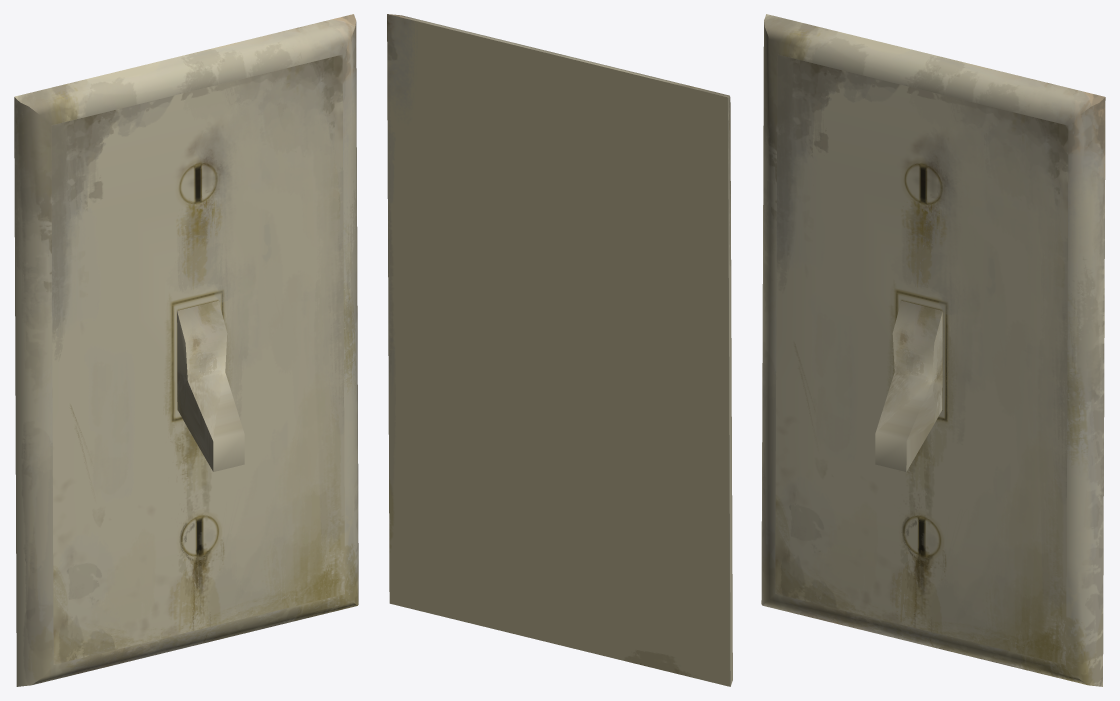
File: switch.glb
3 views of the same model, side by side, from view 1: azimuth 30°, elevation 25°; view 2: azimuth 150°, elevation 25°; view 3: azimuth 330°, elevation 25° (orthographic).
Parts seen in each view (by area): view 1: Mesh_1; view 2: Mesh_1; view 3: Mesh_1.
Part boxes in pixels (x1,y1,x2,y2): Mesh_1: [14, 14, 358, 686]; Mesh_1: [387, 14, 732, 686]; Mesh_1: [761, 14, 1105, 686].
Bounding box in the file's own units: 2.04 × 3.37 × 0.4691.
1 material, 1 textured.
